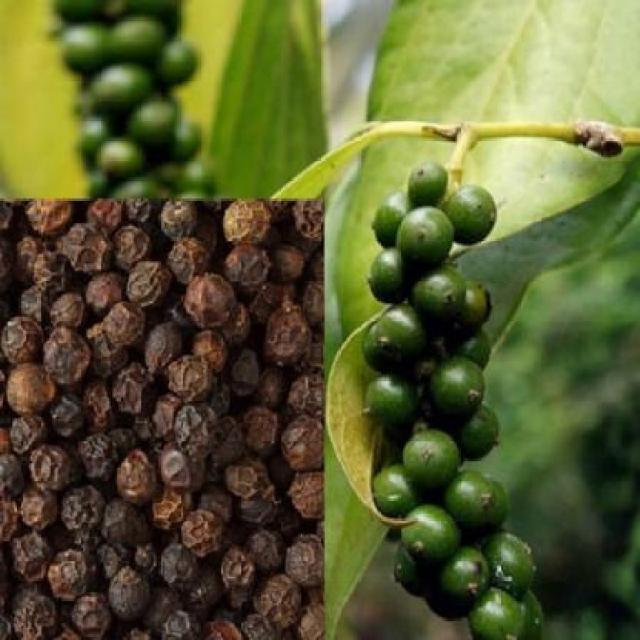UNRIPE: (389, 152, 540, 631)
